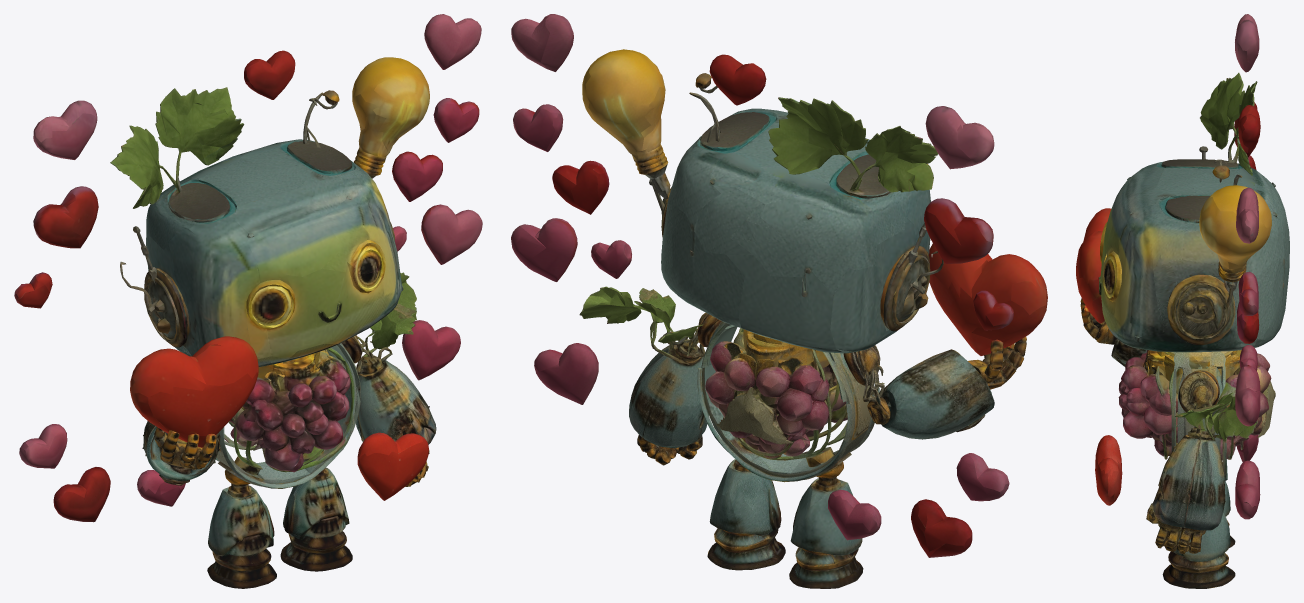
Rendered from robot.glb.
3 views of the same model, side by side, from view 1: azimuth 30°, elevation 25°; view 2: azimuth 150°, elevation 25°; view 3: azimuth 270°, elevation 25° (orthographic). The views are drawn at different scales.
Visible parts, largest first — view 1: mesh_node; view 2: mesh_node; view 3: mesh_node.
Part boxes in pixels (x1,y1,x2,y2): mesh_node: (14, 14, 482, 588); mesh_node: (511, 14, 1047, 588); mesh_node: (1076, 14, 1289, 588).
Bounding box in the file's own units: 1.89 × 1.89 × 0.7999.
Materials: 1 (1 with a texture image).
